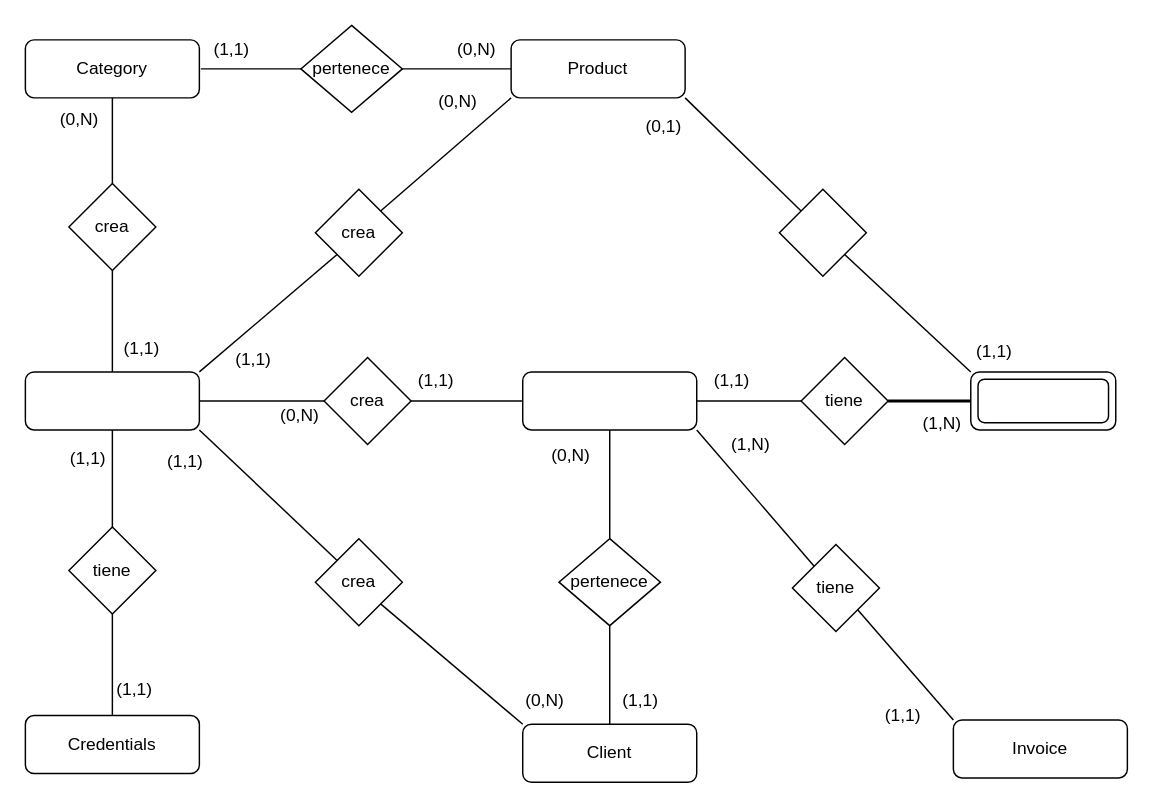
The diagram is 1153 pixels wide and 808 high, and some of its shapes have lost their labels. The shapes that lost their labels are listed below. From the top down, each one's centre as x and y in pixels, then its label:
the point at 822,232: contiene
the point at 111,400: User
the point at 609,400: Note
the point at 1042,400: Note Line
